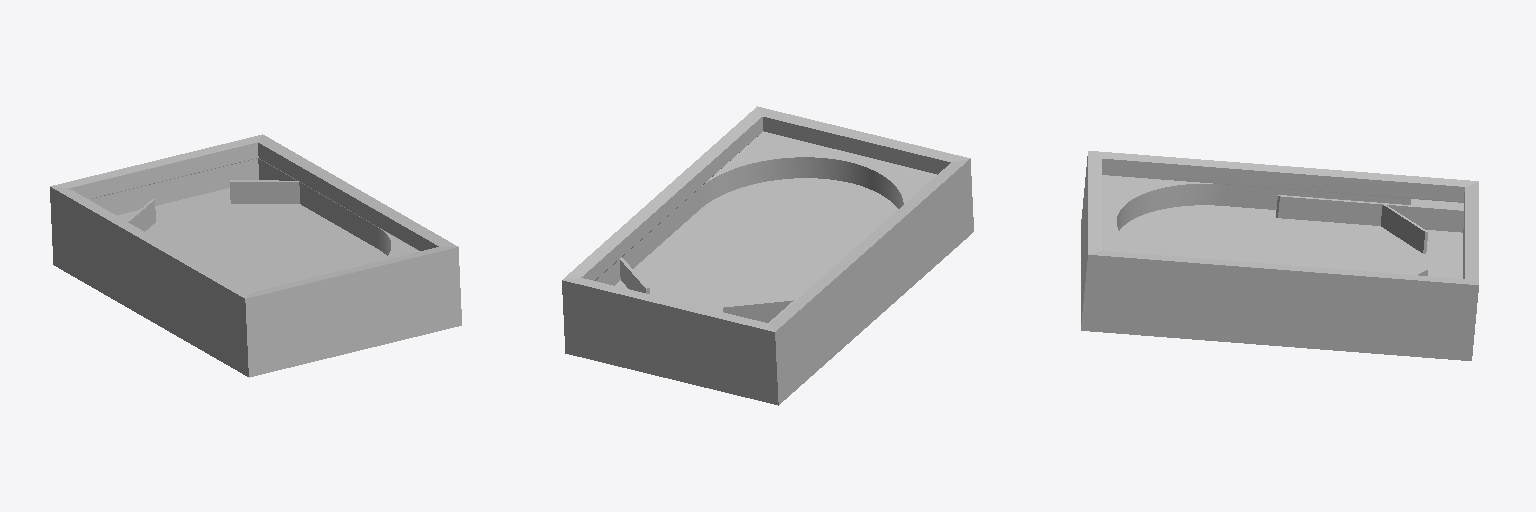
File: boardP1.obj
3 renders of one model, left to right at view 1: azimuth 30°, elevation 25°; view 2: azimuth 150°, elevation 25°; view 3: azimuth 270°, elevation 25°, orthographic.
Visible parts, largest first — view 1: Cube; view 2: Cube; view 3: Cube.
Part boxes in pixels (bbox=[...]): Cube: bbox=[50, 134, 461, 377]; Cube: bbox=[562, 106, 973, 405]; Cube: bbox=[1081, 151, 1478, 360].
Bounding box in the file's own units: 18.84 × 9 × 30.48.